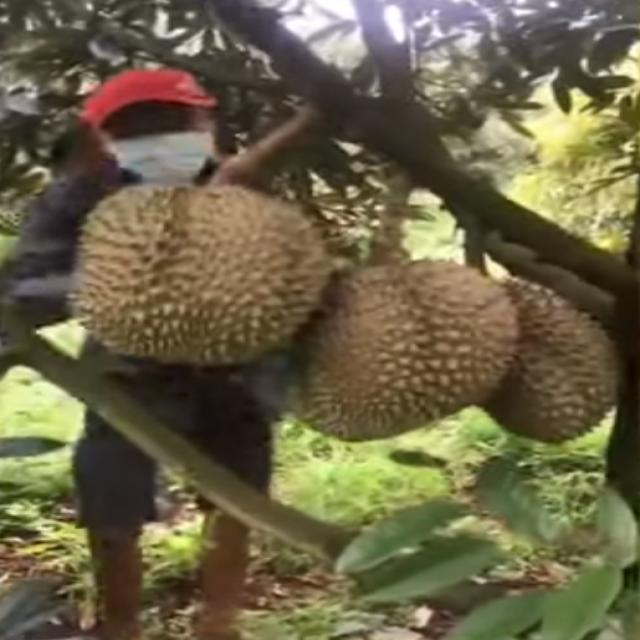mature: (286, 256, 524, 444), (78, 189, 336, 361), (423, 273, 626, 447)
